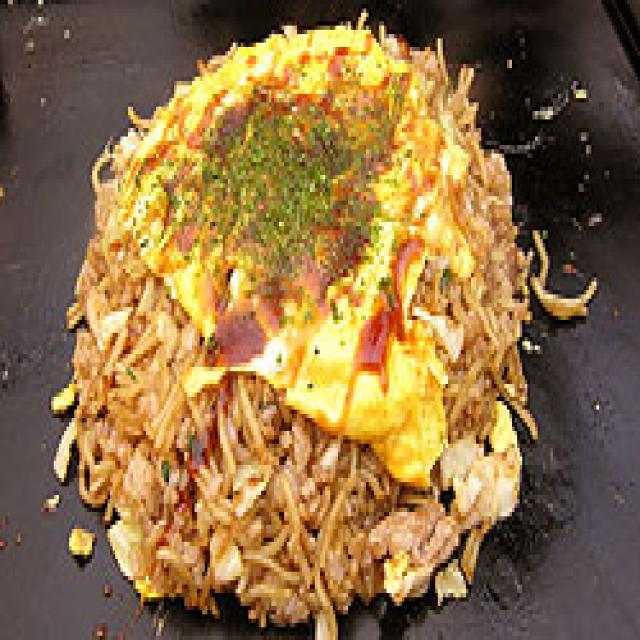蛋糕甜品: (72, 0, 530, 640)
